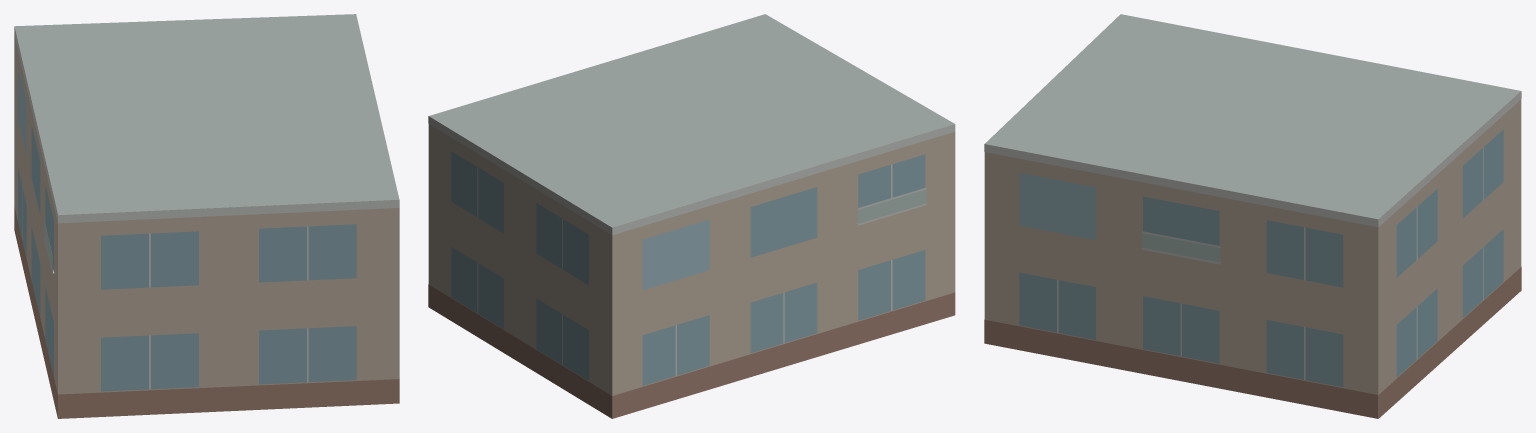
Rendered from survey-upis-32668608.glb.
The picture shows the model from 3 angles, left to right: view 1: azimuth 30°, elevation 25°; view 2: azimuth 150°, elevation 25°; view 3: azimuth 270°, elevation 25°; orthographic projection. The views are drawn at different scales.
Parts seen in each view (by area): view 1: survey-upis-32668608.tmp; view 2: survey-upis-32668608.tmp; view 3: survey-upis-32668608.tmp.
Part boxes in pixels (x1,y1,x2,y2): survey-upis-32668608.tmp: (14, 14, 399, 418); survey-upis-32668608.tmp: (428, 14, 955, 418); survey-upis-32668608.tmp: (984, 14, 1521, 418).
Size of the model in its own units: 13.48 by 6.1 by 14.89.
